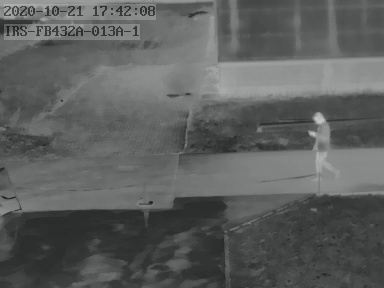person: (309, 108, 334, 179)
